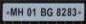character: (46, 7, 53, 17), (10, 7, 17, 16), (17, 7, 23, 17), (26, 7, 32, 17), (61, 7, 66, 17), (67, 6, 72, 16), (72, 7, 77, 17), (56, 7, 61, 16), (32, 7, 36, 17)
